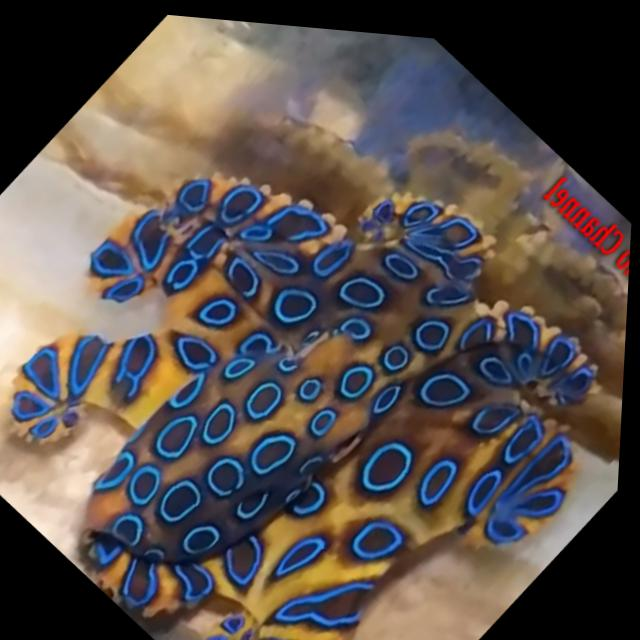blue_ringed_octopus: (0, 7, 640, 640)
